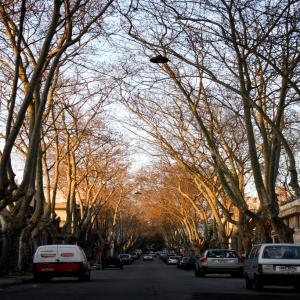Vehicle-registration-plate: (280, 266, 300, 272)
